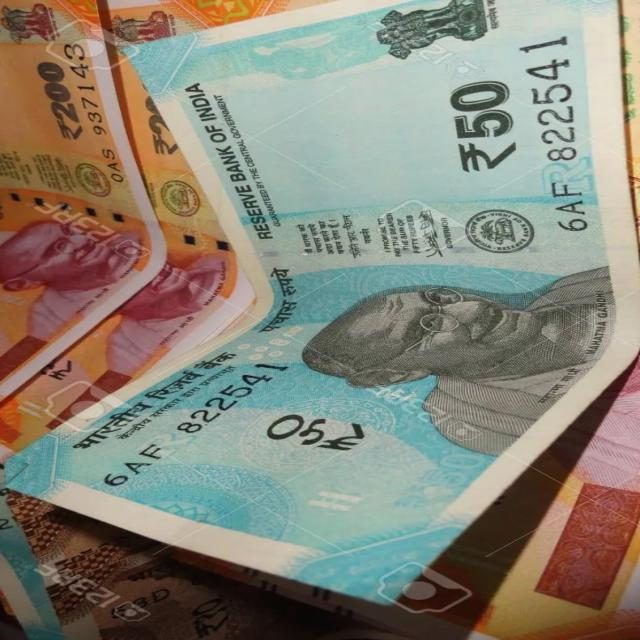50IndianRupees: (0, 0, 628, 603)
